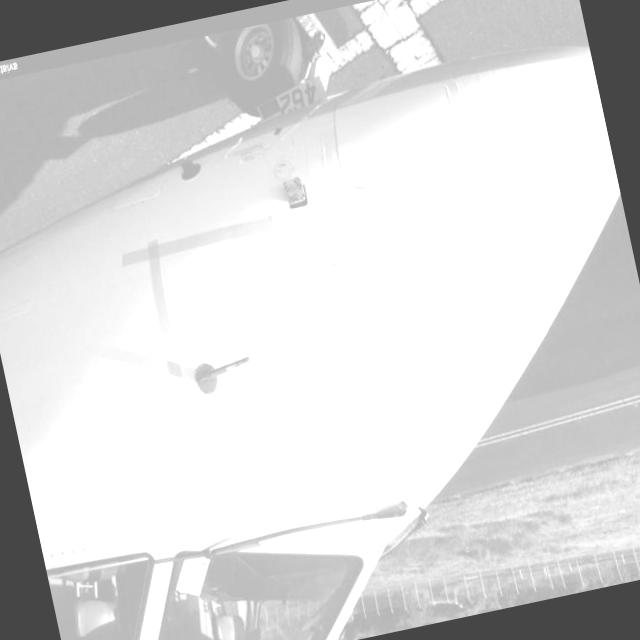dent: (270, 213, 324, 272)
